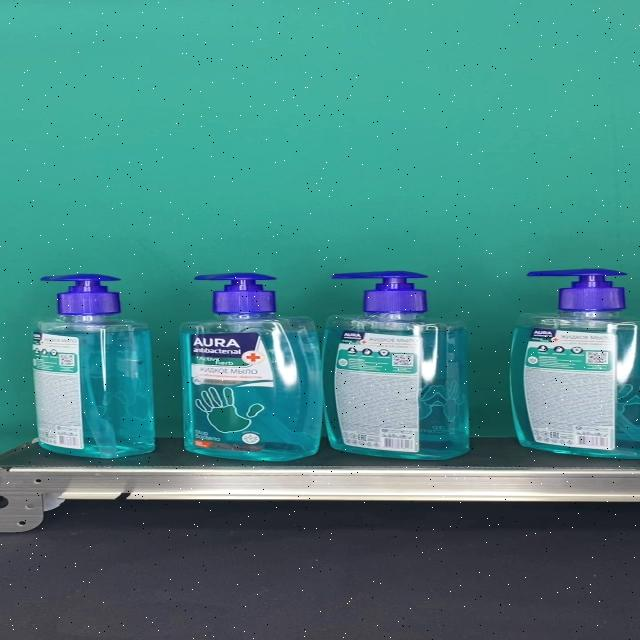Bottle: (321, 272, 470, 460), (180, 273, 321, 461), (506, 269, 640, 459), (30, 274, 154, 458)
Cap: (527, 269, 627, 313), (330, 272, 430, 315), (193, 273, 278, 314), (41, 274, 122, 314)
